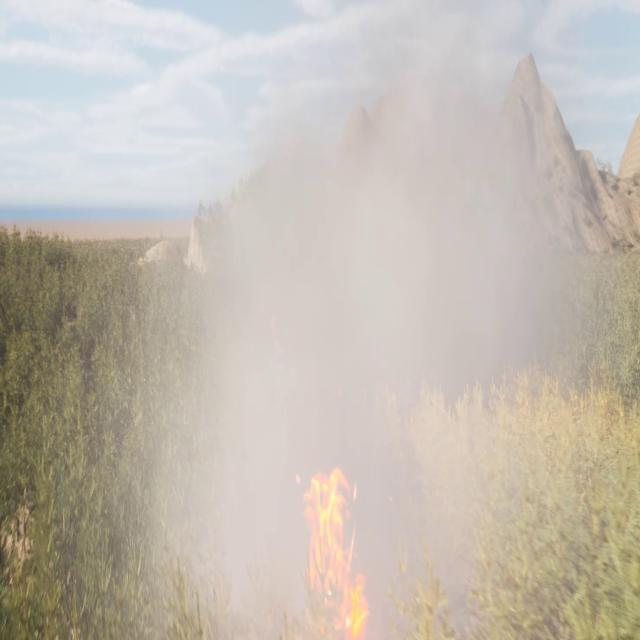fire: (289, 460, 382, 636)
smoke: (108, 6, 640, 639)
